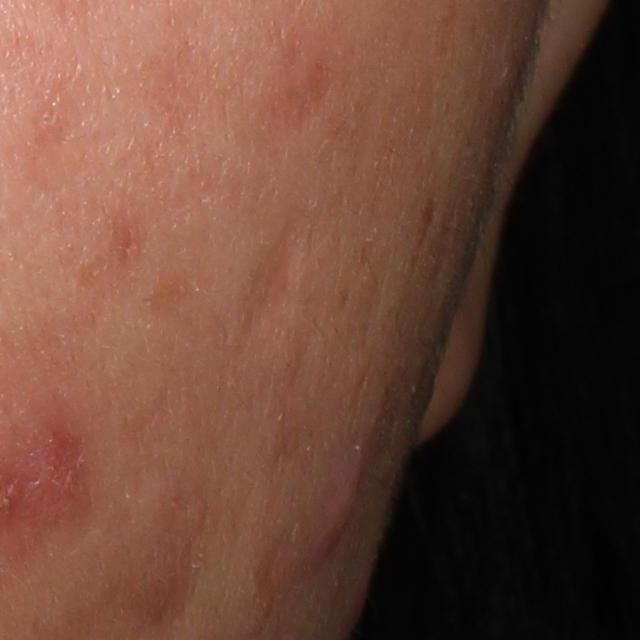atrophic_scar: (239, 208, 309, 357)
papule: (309, 466, 368, 577)
